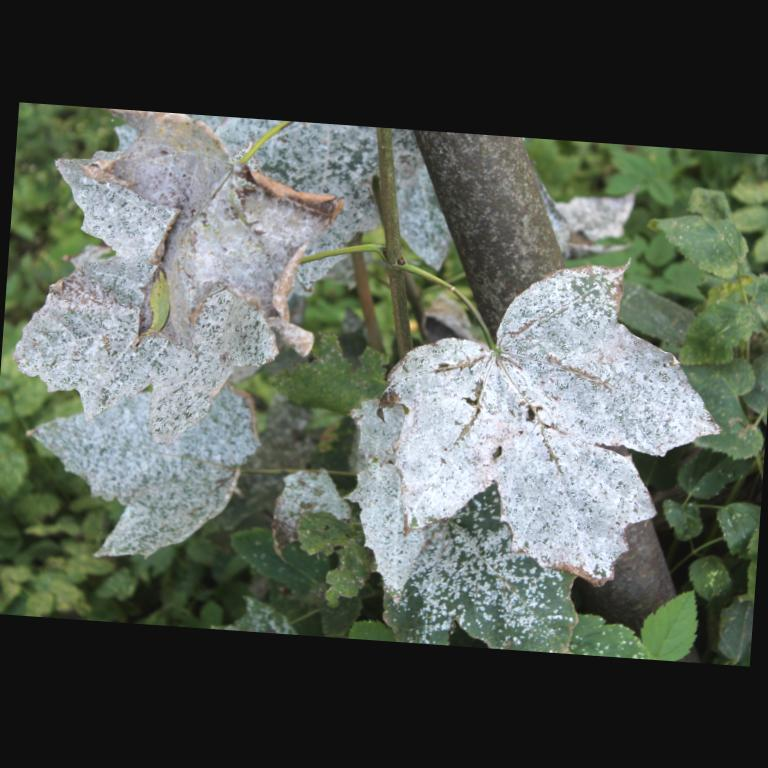powdery-mildew: (406, 360, 530, 494), (546, 334, 662, 443), (534, 455, 628, 561)
